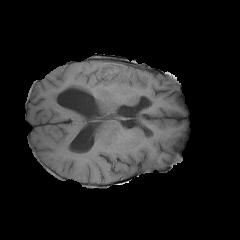glioma: (48, 63, 125, 104)
